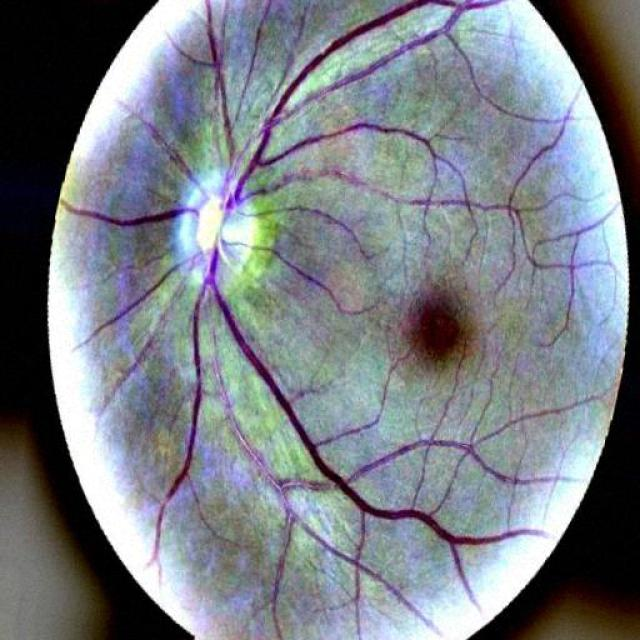Macula: (419, 302, 459, 358)
Nerves: (76, 0, 546, 610), (59, 102, 210, 229), (211, 354, 319, 521), (300, 520, 439, 634), (178, 0, 241, 159), (360, 436, 554, 484)
Optic Disk: (172, 169, 278, 289)
